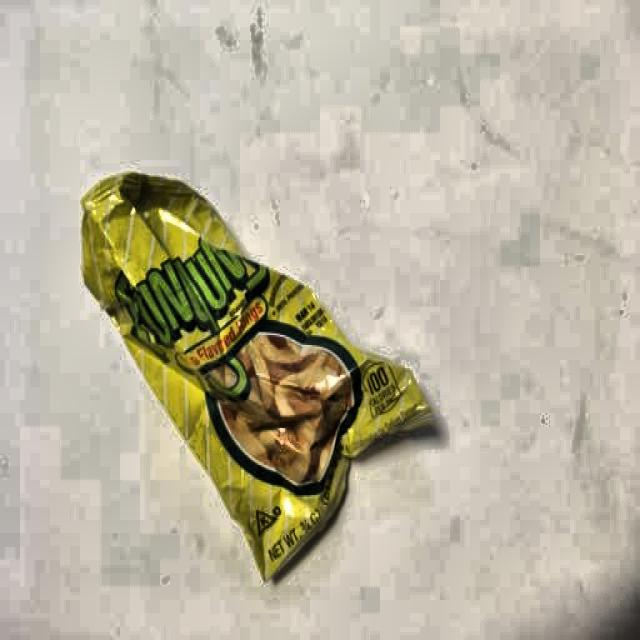trash: (71, 159, 438, 574)
